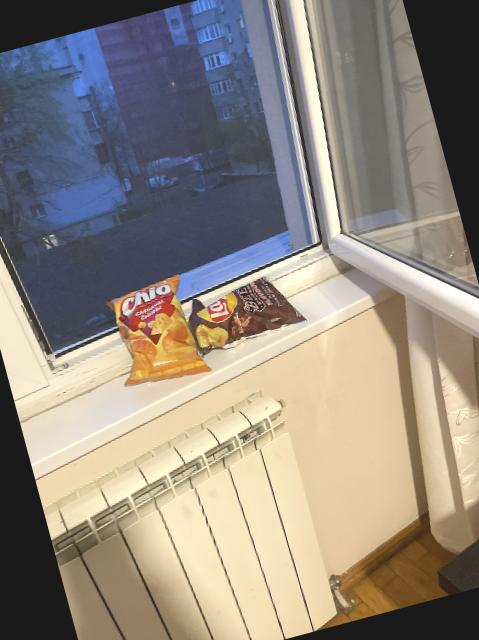Chio Cascaval 125g: (98, 274, 210, 391)
Lays Beef Grilled Ribs 125g: (182, 264, 310, 355)
